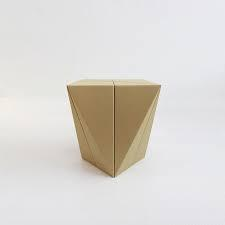Cardboard: (53, 69, 189, 182)
